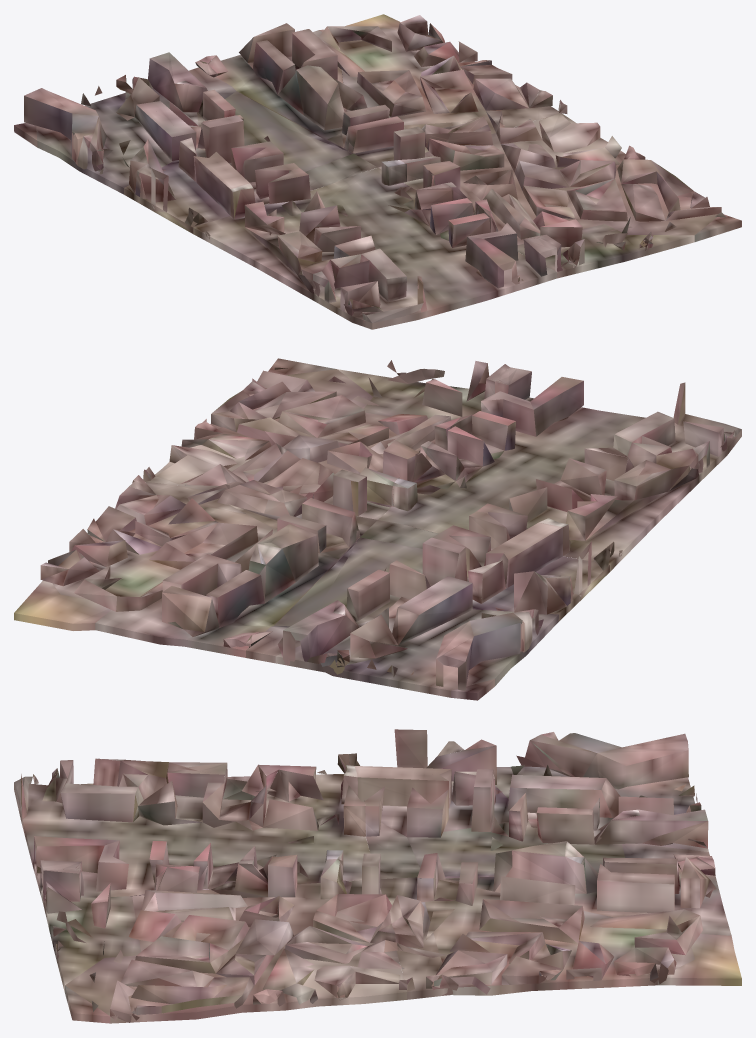
The picture shows the model from 3 angles, top to bottom: view 1: azimuth 30°, elevation 25°; view 2: azimuth 150°, elevation 25°; view 3: azimuth 270°, elevation 25°; orthographic projection. The views are drawn at different scales.
Visible parts, largest first — view 1: Mesh_0; view 2: Mesh_0; view 3: Mesh_0.
Boxes of the visible parts, <box> form: Mesh_0: <box>14,14,741,329</box>; Mesh_0: <box>14,358,741,700</box>; Mesh_0: <box>14,729,741,1023</box>.
Bounding box in the file's own units: 532 × 64.37 × 659.
2 materials, 2 textured.
